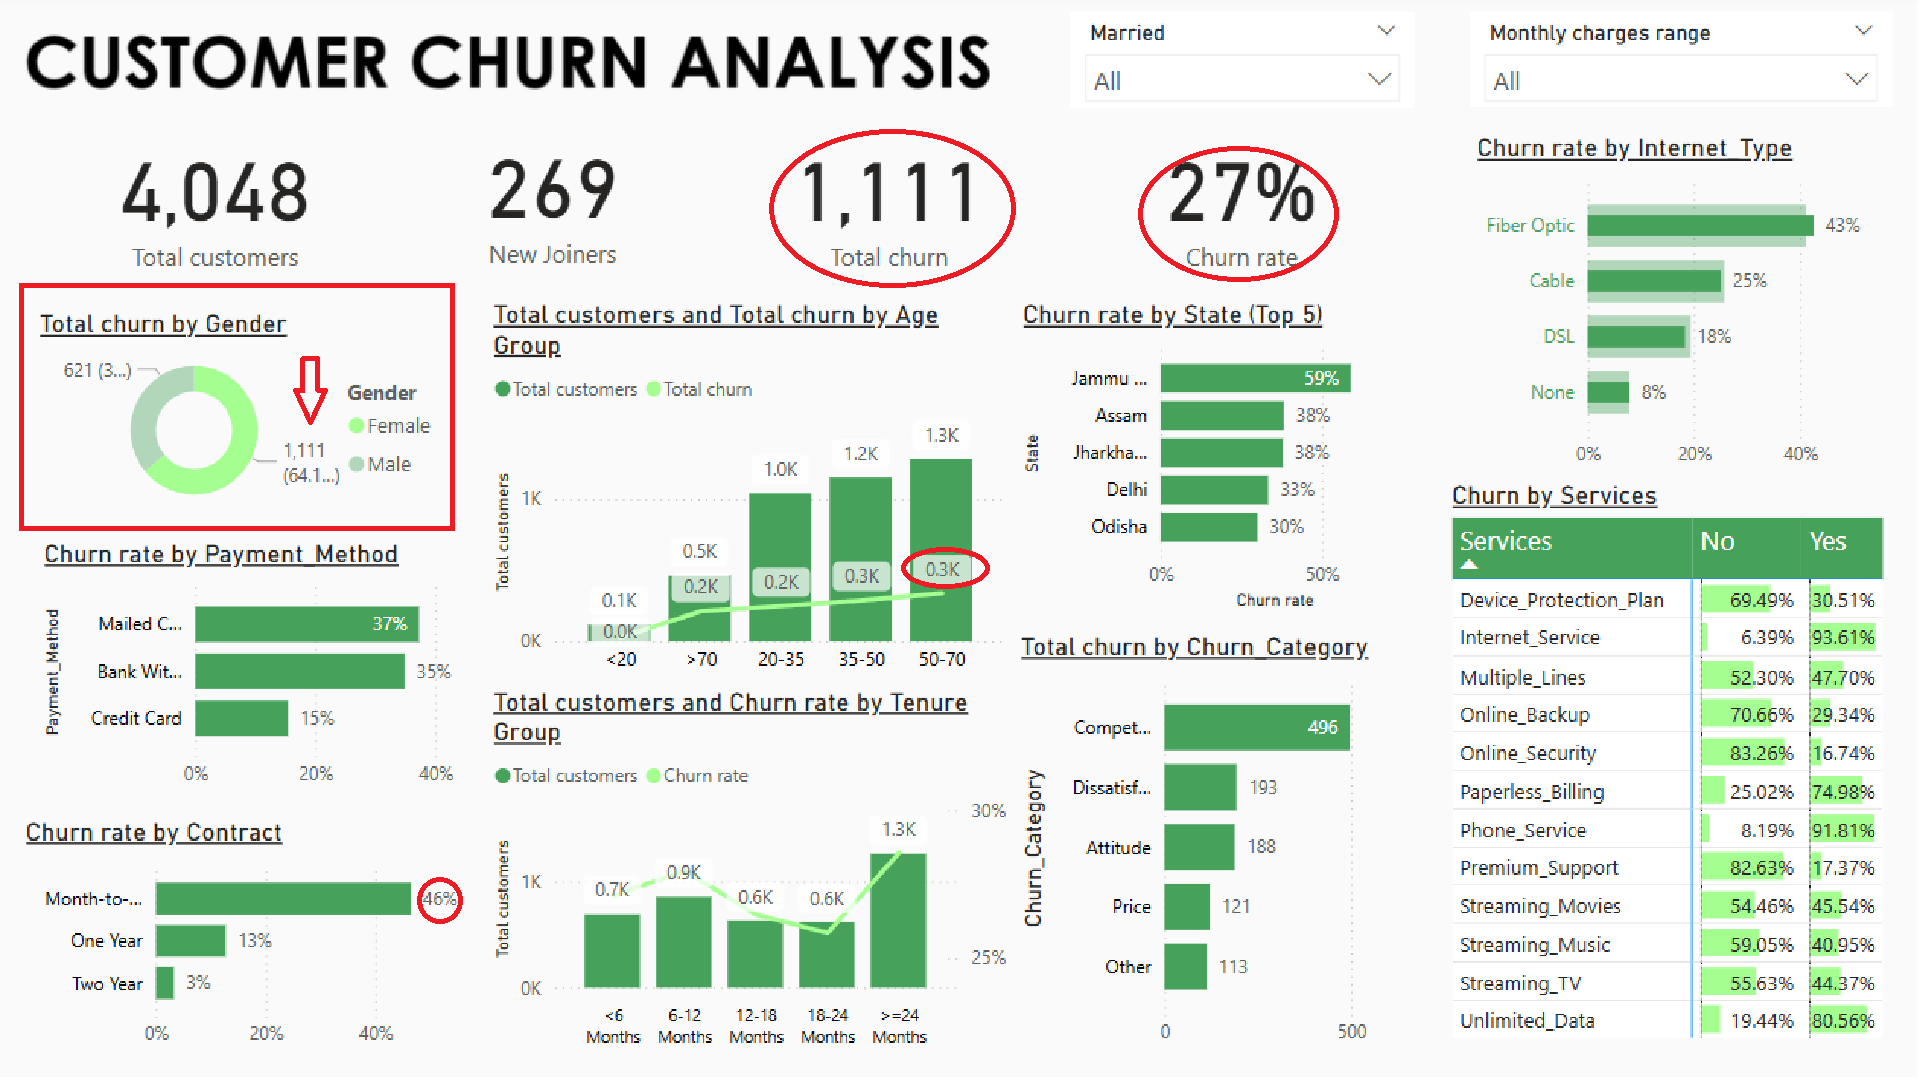

Layout of this report page (visuals, bound fields, positions):
{"tool":"powerbi","page":{"name":"Analysis","canvas":[1280,720],"ordinal":0},"visuals":[{"type":"card","fields":{"Values":["Measures_table.New Joiners"]},"box":[263.3,76.7,211.7,111.7],"z":0},{"type":"card","fields":{"Values":["Measures_table.Total churn"]},"box":[486.7,78.3,213.3,111.7],"z":1000},{"type":"card","fields":{"Values":["Measures_table.Total customers"]},"box":[26.7,78.3,236.7,111.7],"z":2000},{"type":"donutChart","fields":{"Category":["churn_production.Gender"],"Y":["Measures_table.Total churn"]},"box":[24.4,207.1,280.4,139.5],"z":3000},{"type":"lineStackedColumnComboChart","fields":{"Category":["age_grouping.Age Group"],"Y":["Measures_table.Total customers"],"Y2":["Measures_table.Total churn"]},"box":[325,201.7,350,253.3],"z":4000},{"type":"clusteredBarChart","fields":{"Category":["churn_production.Payment_Method"],"Y":["Measures_table.Churn rate"]},"box":[26.7,356.7,298.3,171.7],"z":5000},{"type":"clusteredBarChart","fields":{"Category":["churn_production.Contract"],"Y":["Measures_table.Churn rate"]},"box":[15.1,539.1,310.4,160.5],"z":6000},{"type":"card","fields":{"Values":["Measures_table.Churn rate"]},"box":[713.3,78.3,226.7,111.7],"z":7000},{"type":"lineStackedColumnComboChart","fields":{"Category":["tenure_grouping.Tenure Group"],"Y":["Measures_table.Total customers"],"Y2":["Measures_table.Churn rate"]},"box":[325.6,454.3,349.8,243.8],"z":8000},{"type":"clusteredBarChart","title":"Churn rate by State (Top 5)","fields":{"Category":["churn_production.State"],"Y":["Measures_table.Churn rate"]},"box":[676.7,201.7,265,206.7],"z":9000},{"type":"clusteredBarChart","fields":{"Category":["churn_production.Churn_Category"],"Y":["Measures_table.Total churn"]},"box":[675.3,417.9,265,280.1],"z":10000},{"type":"clusteredBarChart","fields":{"Category":["churn_production.Internet_Type"],"Y":["Measures_table.Churn rate"]},"box":[978.3,91.7,280,228.3],"z":11000},{"type":"pivotTable","title":"Churn by Services","fields":{"Rows":["prod_service.Services"],"Columns":["prod_service.Status"],"Values":["Sum(prod_service.Churn status)"]},"box":[961.7,320,296.7,380],"z":12000},{"type":"slicer","fields":{"Values":["churn_production.Monthly charges "]},"box":[977.9,14.4,280.4,61.8],"z":13000},{"type":"slicer","fields":{"Values":["churn_production.Married"]},"box":[713.3,14.4,228.7,63.3],"z":14000},{"type":"textbox","box":[676.8,0,443.7,299.8],"z":14001}]}

Visuals, with their boxes in screenshot pixels (x1, y1, x2, y2), scaled from the page's 1280x720 canvas onto the 1920x1080 screenshot:
card - Measures_table.New Joiners: 395:115:712:283
card - Measures_table.Total churn: 730:117:1050:285
card - Measures_table.Total customers: 40:117:395:285
donutChart - churn_production.Gender x Measures_table.Total churn: 37:311:457:520
lineStackedColumnComboChart - age_grouping.Age Group x Measures_table.Total customers: 488:303:1012:682
clusteredBarChart - churn_production.Payment_Method x Measures_table.Churn rate: 40:535:488:793
clusteredBarChart - churn_production.Contract x Measures_table.Churn rate: 23:809:488:1049
card - Measures_table.Churn rate: 1070:117:1410:285
lineStackedColumnComboChart - tenure_grouping.Tenure Group x Measures_table.Total customers: 488:681:1013:1047
"Churn rate by State (Top 5)" clusteredBarChart: 1015:303:1413:613
clusteredBarChart - churn_production.Churn_Category x Measures_table.Total churn: 1013:627:1410:1047
clusteredBarChart - churn_production.Internet_Type x Measures_table.Churn rate: 1467:138:1887:480
"Churn by Services" pivotTable: 1443:480:1888:1050
slicer - churn_production.Monthly charges : 1467:22:1887:114
slicer - churn_production.Married: 1070:22:1413:117
textbox: 1015:0:1681:450
